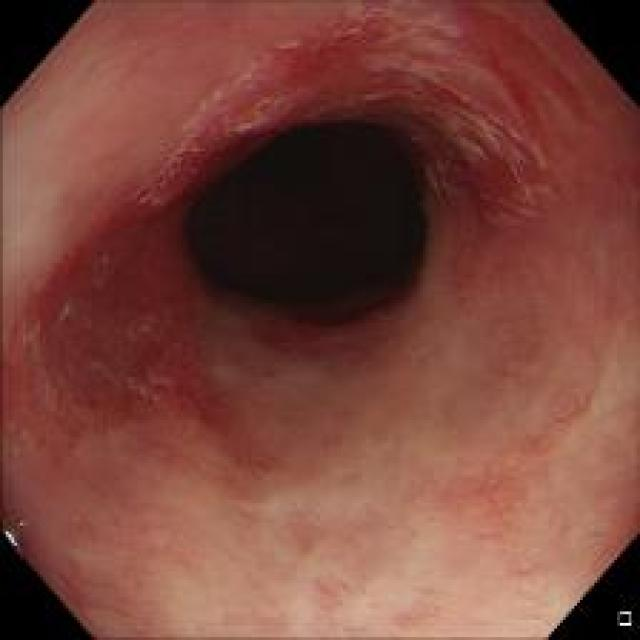color misalignment: (231, 106, 279, 142)
contrast: (188, 108, 428, 332)
